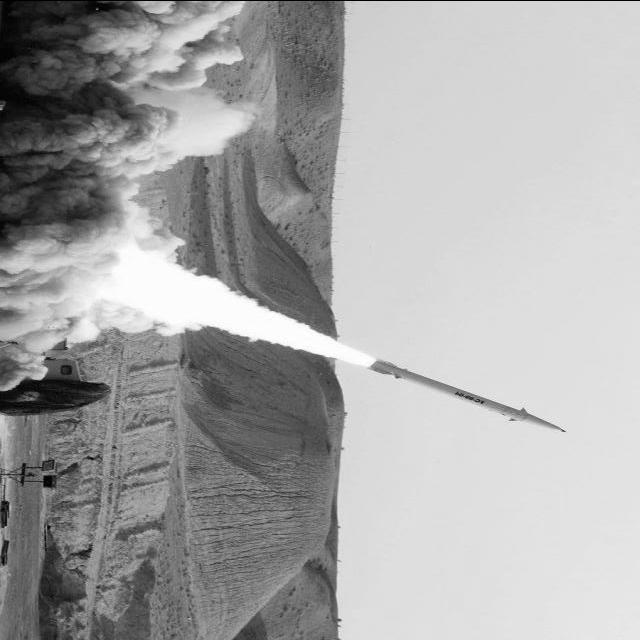Missile: (364, 357, 579, 435)
